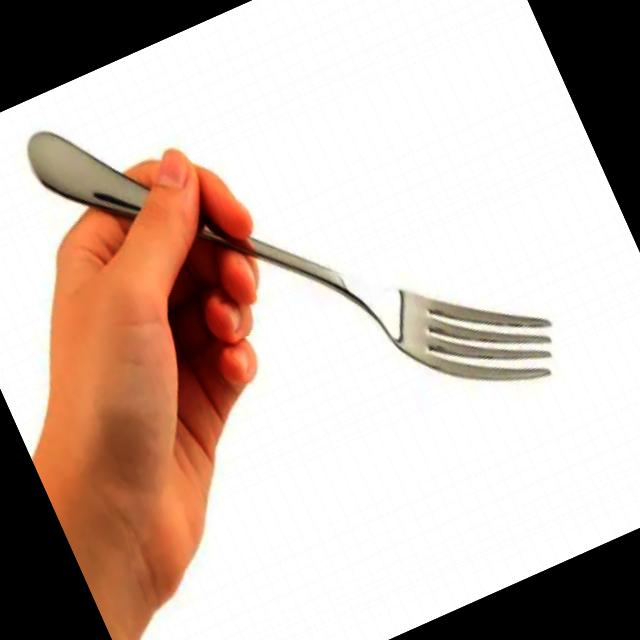fork: (18, 0, 571, 535)
